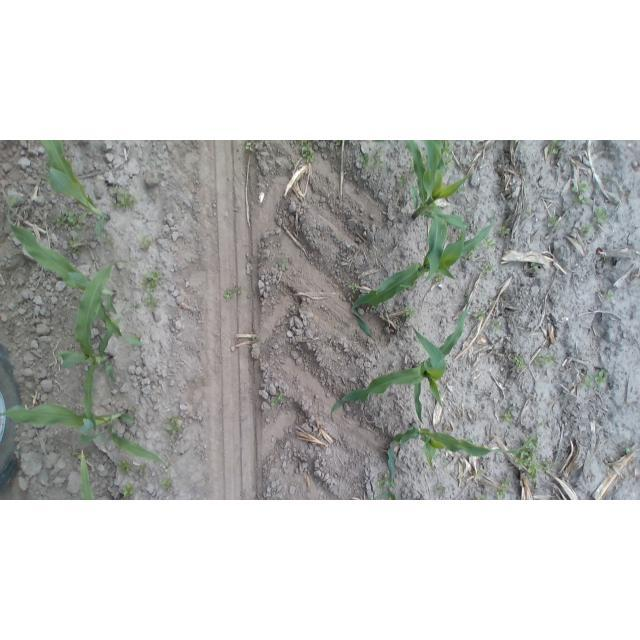Maize: (3, 194, 143, 349), (329, 282, 475, 426), (348, 211, 498, 345), (56, 256, 143, 433), (376, 420, 540, 500), (1, 400, 172, 469), (405, 141, 471, 286), (34, 140, 110, 244), (78, 449, 95, 500), (372, 140, 391, 142)
Weeds: (514, 437, 538, 468), (111, 186, 141, 210), (52, 210, 82, 228), (139, 269, 163, 291), (570, 179, 590, 205), (165, 415, 183, 438), (299, 141, 316, 164), (535, 353, 557, 368), (224, 283, 242, 301), (497, 477, 512, 498), (66, 236, 82, 255), (377, 474, 393, 492), (594, 369, 609, 387), (594, 206, 609, 223), (441, 149, 453, 169), (144, 294, 158, 311), (527, 463, 539, 482), (541, 459, 556, 474), (270, 393, 285, 408), (550, 140, 563, 157), (140, 235, 154, 250), (118, 461, 132, 476), (513, 354, 526, 370), (372, 150, 384, 167), (441, 140, 453, 156), (122, 485, 135, 499), (473, 308, 487, 321), (545, 216, 559, 229), (278, 258, 290, 272), (483, 238, 497, 250), (347, 281, 359, 295), (360, 152, 370, 168), (580, 376, 592, 389), (102, 232, 115, 244), (404, 307, 418, 318), (579, 224, 593, 235), (162, 475, 172, 490), (498, 226, 510, 238), (620, 444, 633, 454), (504, 412, 515, 423), (437, 484, 447, 496), (246, 141, 258, 151), (484, 264, 496, 274), (72, 449, 84, 459), (466, 249, 477, 259), (396, 174, 407, 184), (137, 463, 147, 474), (605, 290, 614, 302), (59, 327, 69, 337), (492, 320, 501, 330), (474, 493, 489, 499), (435, 273, 444, 283), (530, 263, 539, 273), (132, 332, 143, 340), (133, 300, 141, 310), (251, 336, 261, 344), (150, 192, 158, 202), (128, 404, 137, 412), (477, 471, 486, 478), (525, 208, 532, 217), (334, 141, 343, 148), (163, 466, 171, 473), (602, 255, 610, 262), (330, 269, 337, 276), (537, 422, 544, 429)
